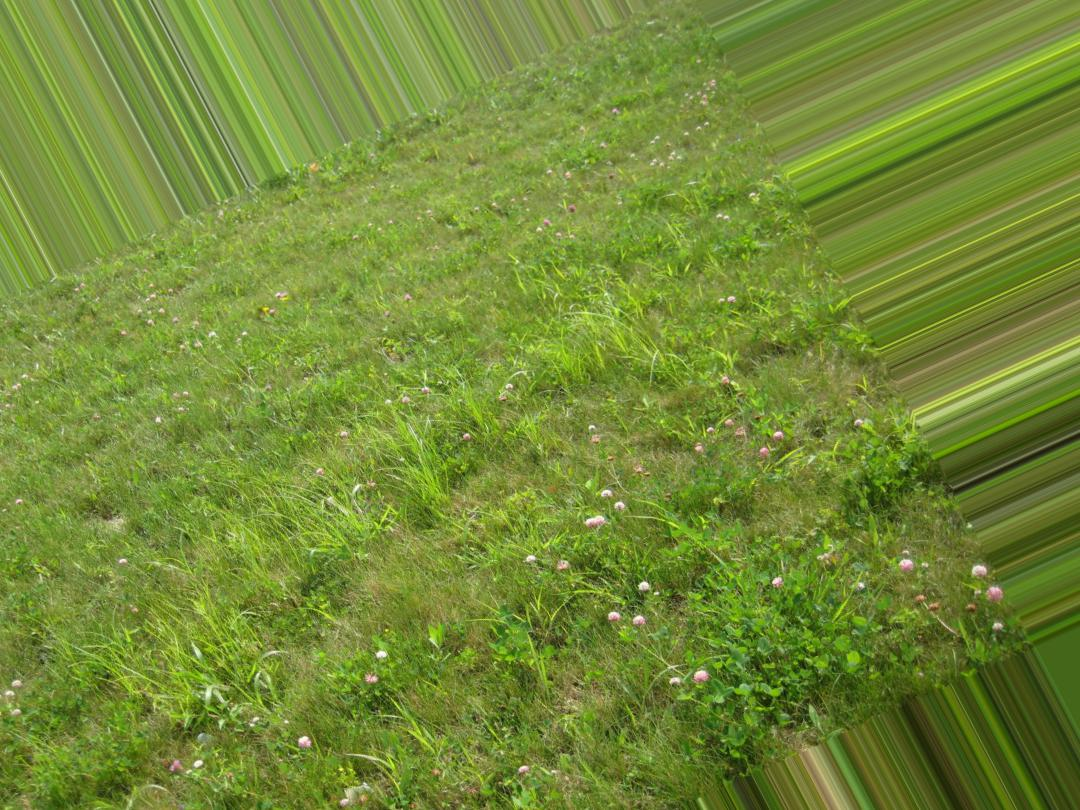patch: (696, 465, 814, 536), (187, 385, 299, 459), (767, 363, 857, 437), (887, 514, 963, 596), (560, 402, 661, 462), (83, 469, 147, 551), (334, 549, 419, 604), (437, 467, 513, 515)
